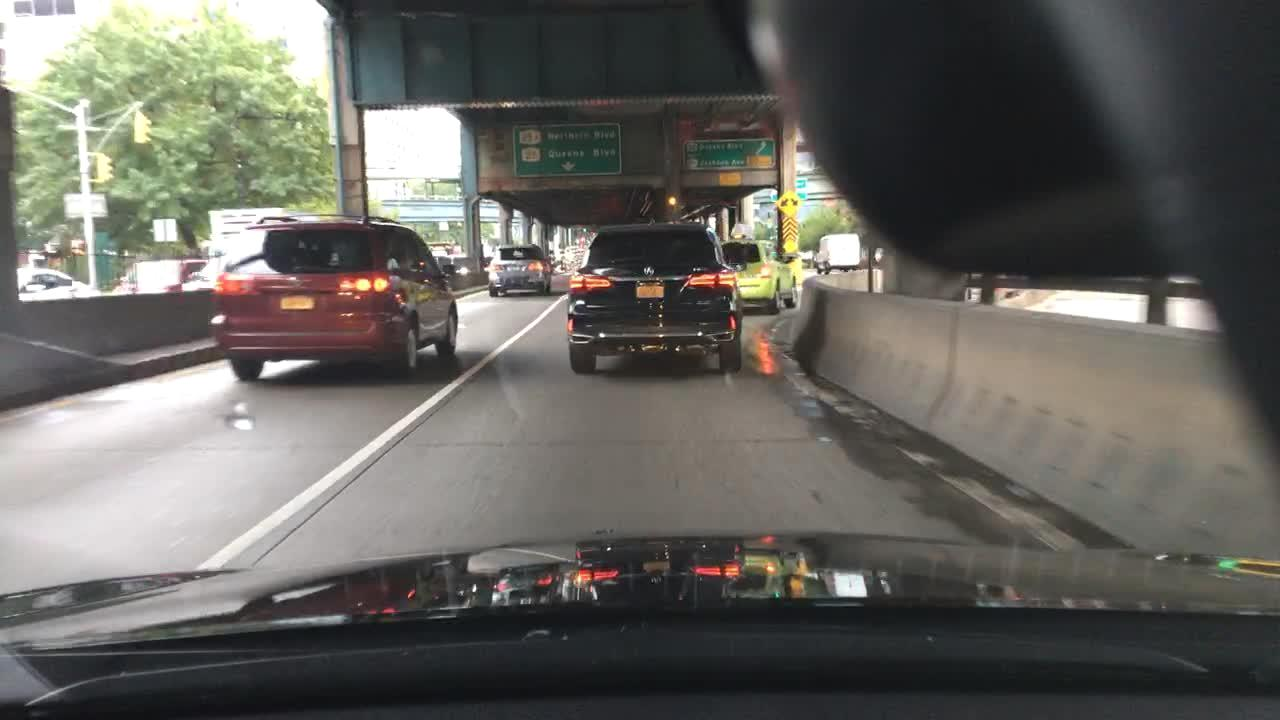acura: (640, 260, 658, 280)
